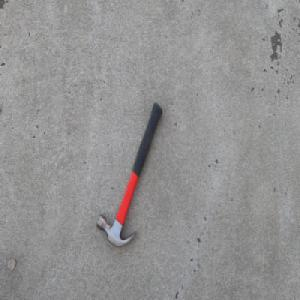Hammer: (95, 101, 163, 248)
